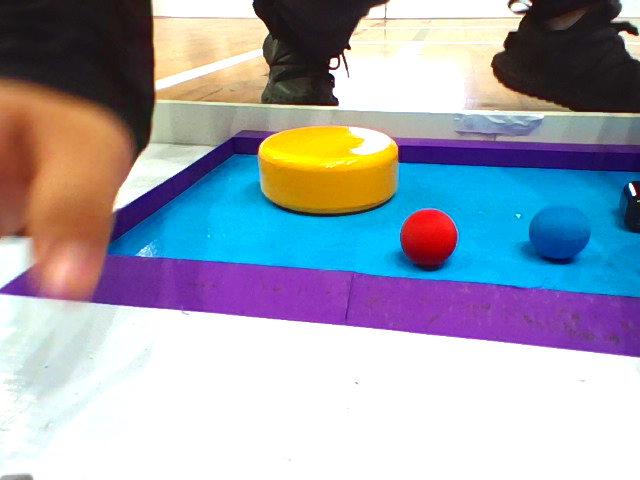blue: (528, 203, 594, 268)
kuang: (1, 120, 640, 362)
red: (398, 208, 455, 268)
yellow: (257, 123, 399, 215)
